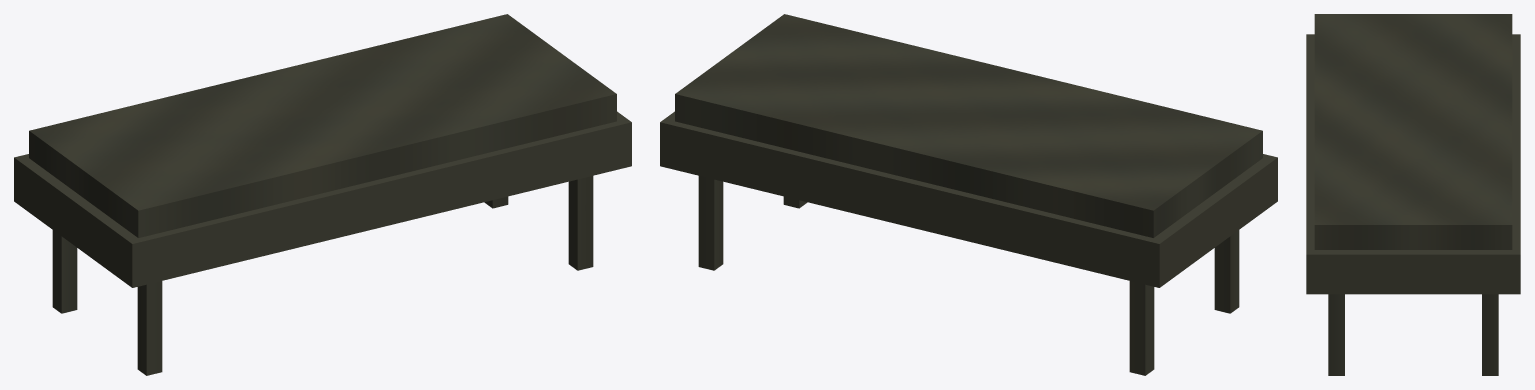
The model's file is prop_field_cot_bed_a.glb.
The picture shows the model from 3 angles, left to right: view 1: azimuth 30°, elevation 25°; view 2: azimuth 150°, elevation 25°; view 3: azimuth 270°, elevation 25°; orthographic projection. The views are drawn at different scales.
Visible parts, largest first — view 1: prop_field_cot_bed_a; view 2: prop_field_cot_bed_a; view 3: prop_field_cot_bed_a.
Boxes of the visible parts, box(x1,y1,x2,y2) form: prop_field_cot_bed_a: box(14, 14, 631, 375); prop_field_cot_bed_a: box(660, 14, 1277, 375); prop_field_cot_bed_a: box(1306, 14, 1520, 375).
Bounding box in the file's own units: 1.9 × 0.635 × 0.78.
Materials: 1 (1 with a texture image).
